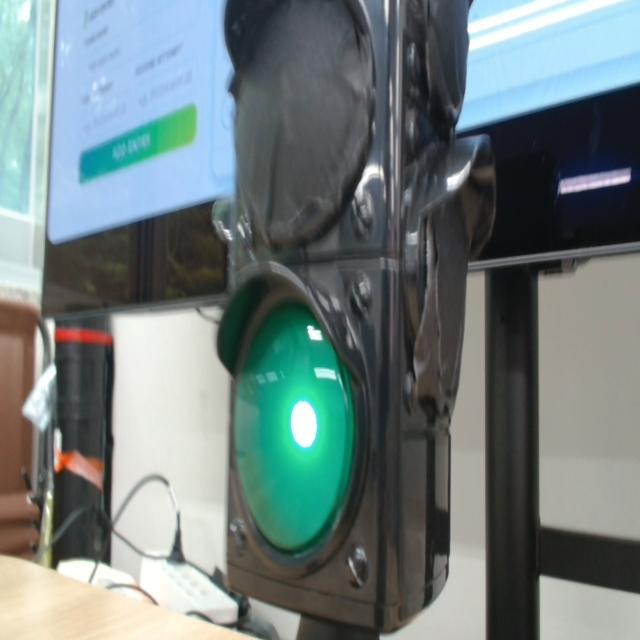green_light: (234, 304, 354, 552), (291, 401, 317, 448)
